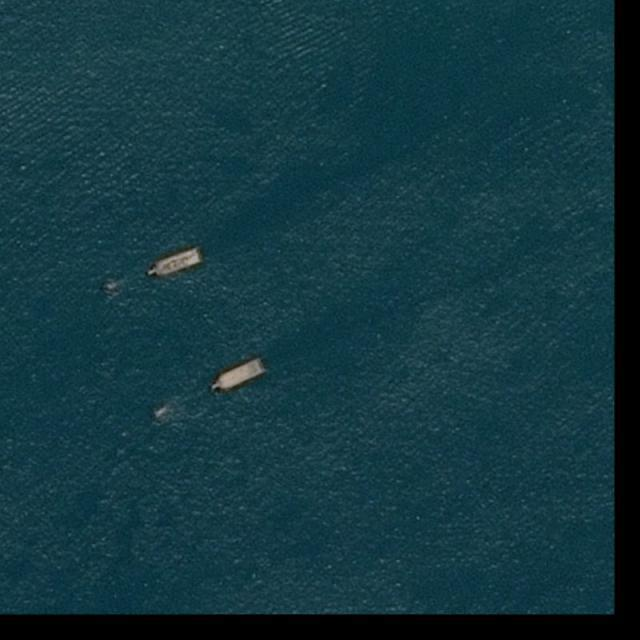ship: (207, 355, 268, 398), (144, 246, 206, 283), (155, 408, 169, 418), (102, 282, 118, 290)
